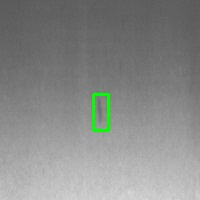inclusion: (93, 94, 108, 130)
